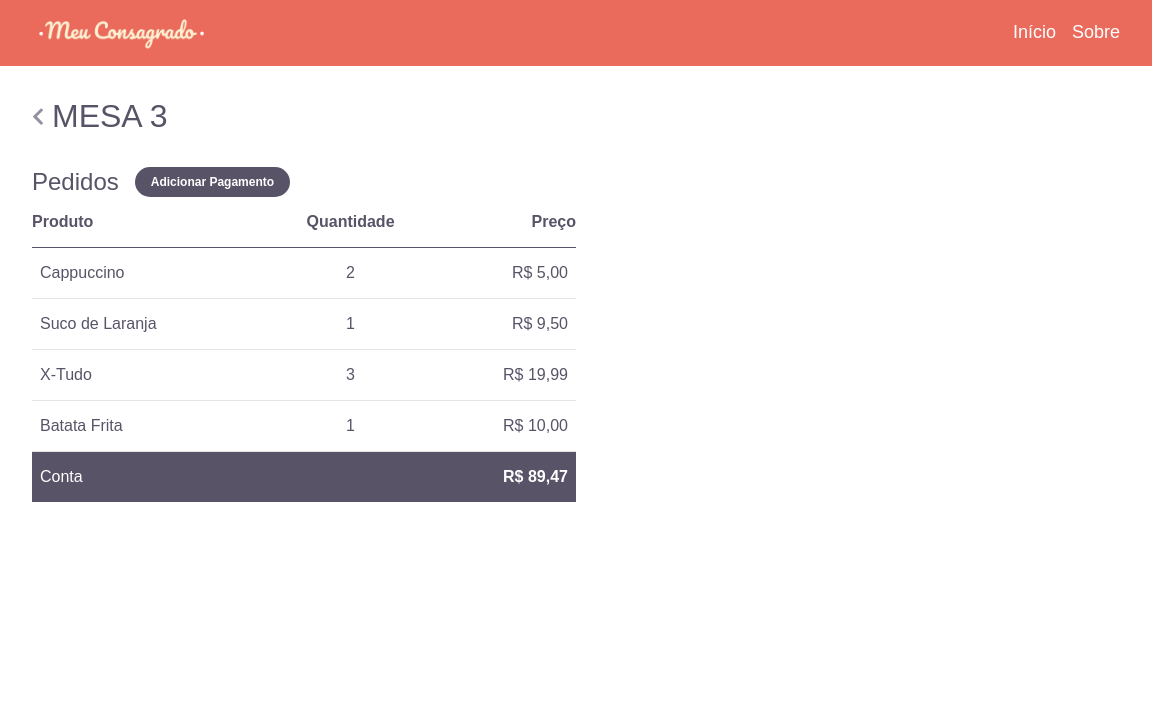
Table Tests › should be able to add a payment
The image size is (1152, 720).
Expected: the element with test id "table-page" is shown, top-left (32, 98), bottom-right (576, 502)
Click the button with test id "add-payment-button" at (213, 182), box top-left (135, 167), bottom-right (290, 197)
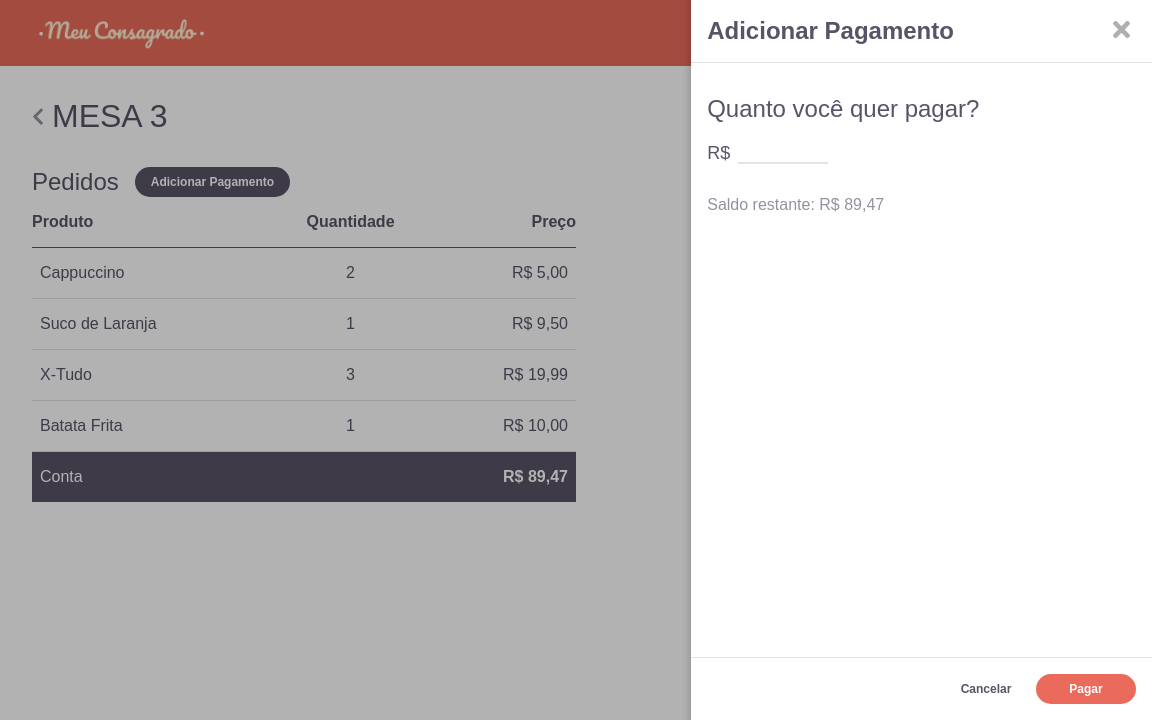
Now the element with test id "payment-modal" is shown, box top-left (691, 0), bottom-right (1151, 719)
Type "45.5" into the number field with test id "payment-input" at (783, 148), box top-left (738, 131), bottom-right (828, 164)
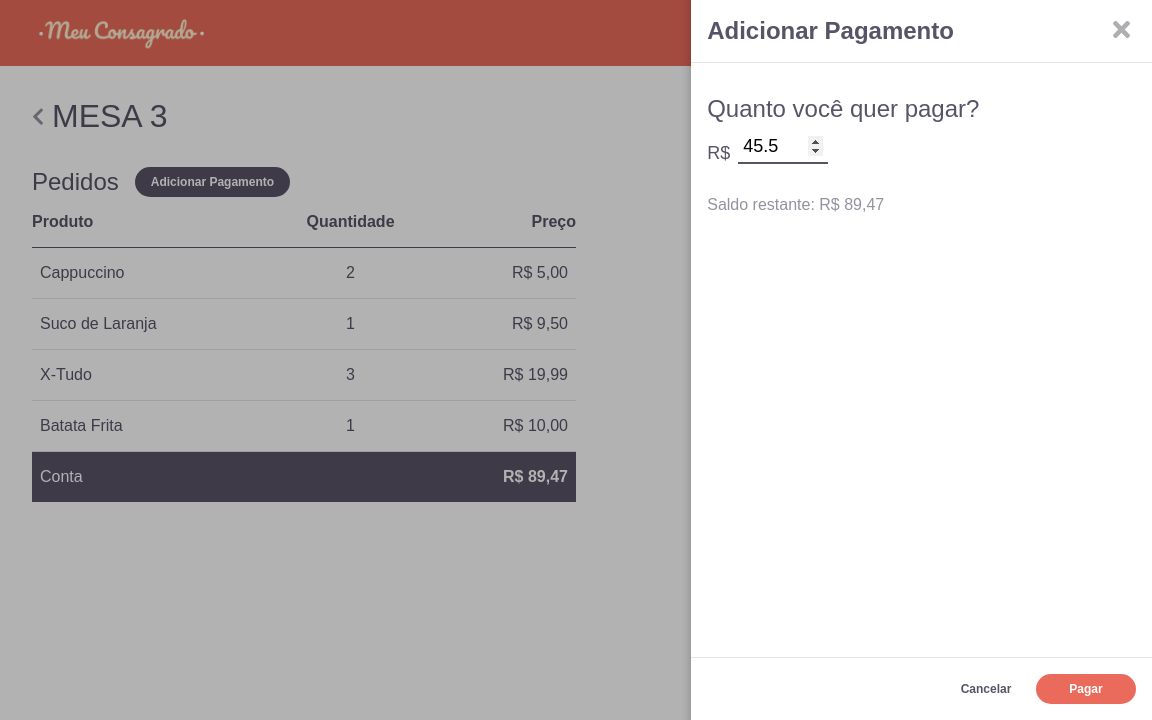
Click the button with test id "payment-modal-primary-button" at (1086, 689), box top-left (1036, 674), bottom-right (1136, 704)
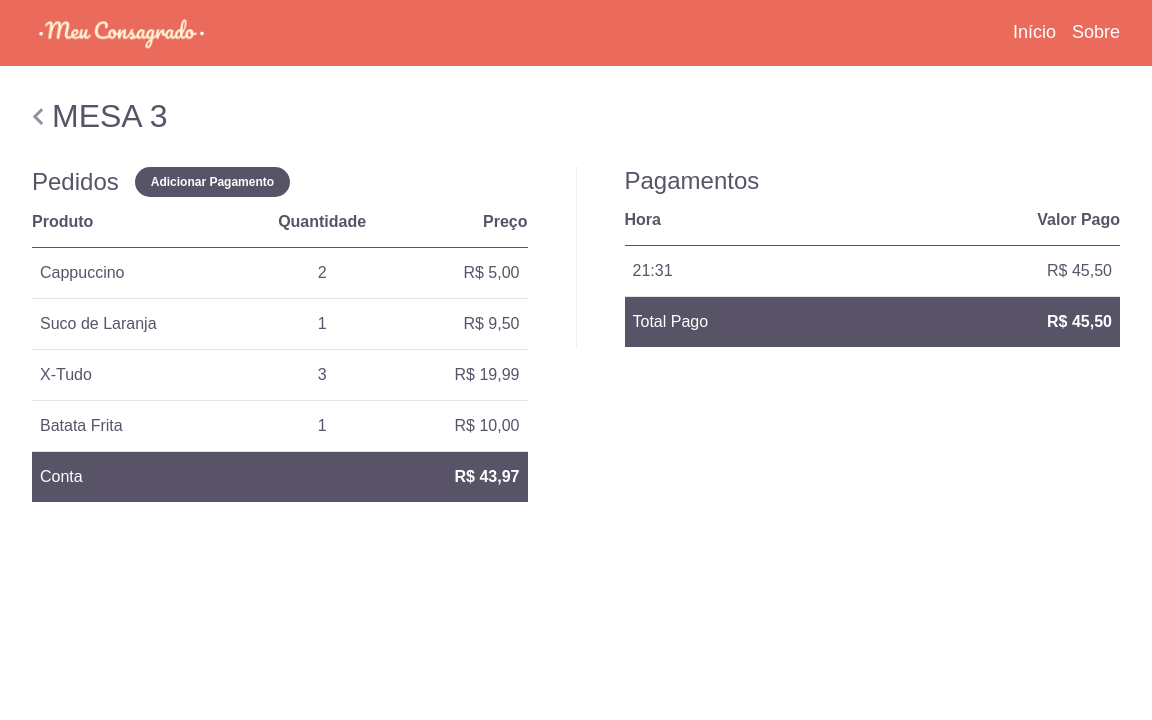
Now the element with test id "payments" is shown, box top-left (576, 167), bottom-right (1121, 347)
